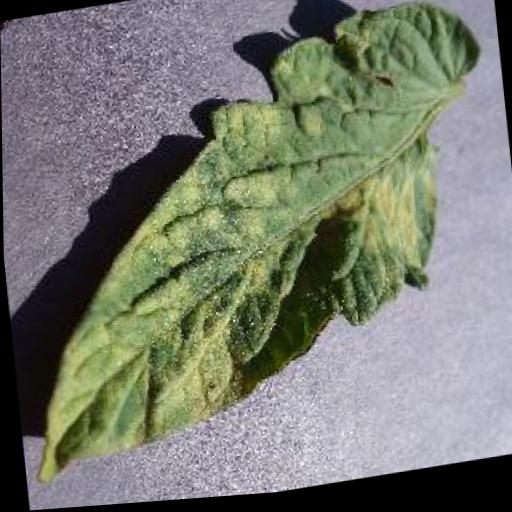Leaf Mold: (0, 0, 512, 488)
